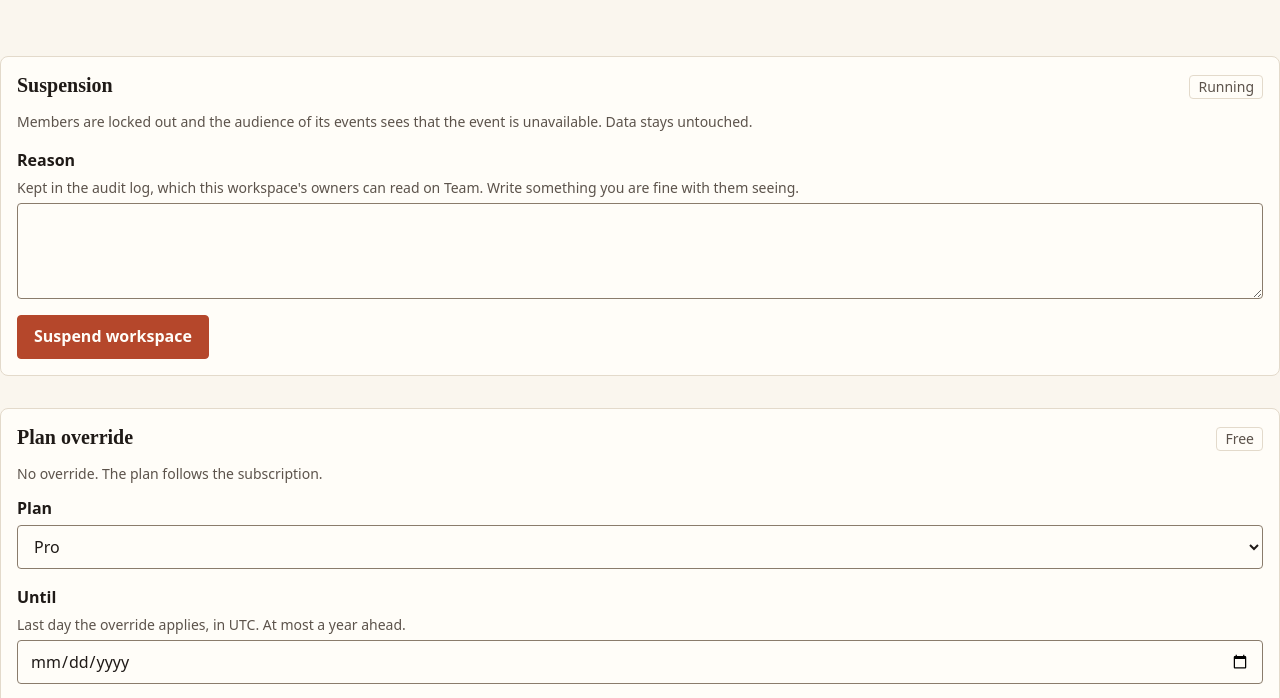
Test: OpsWorkspaceManager › suspends with a reason, then shows the reactivate control from the refreshed detail
The image size is (1280, 698).
In the text box labelled "Reason": (640, 251) x1=17 y1=203 x2=1263 y2=299, type "spam"
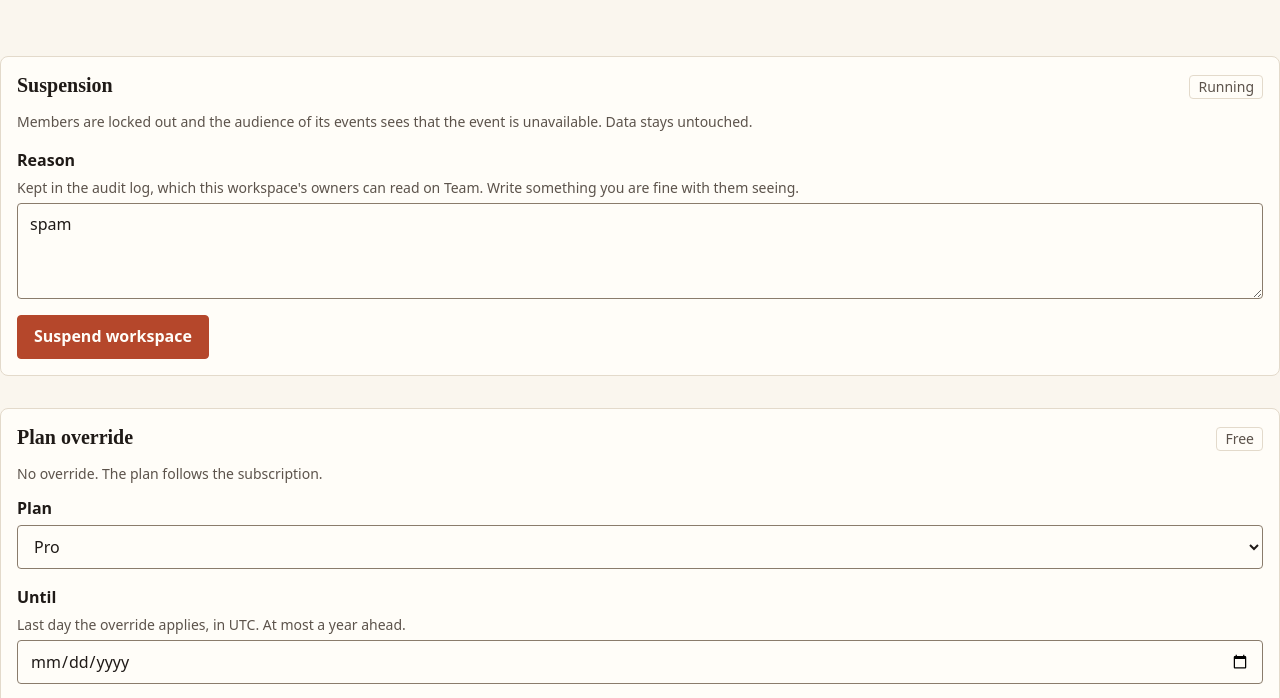
Click the button "Suspend workspace": (113, 337) x1=17 y1=315 x2=209 y2=359
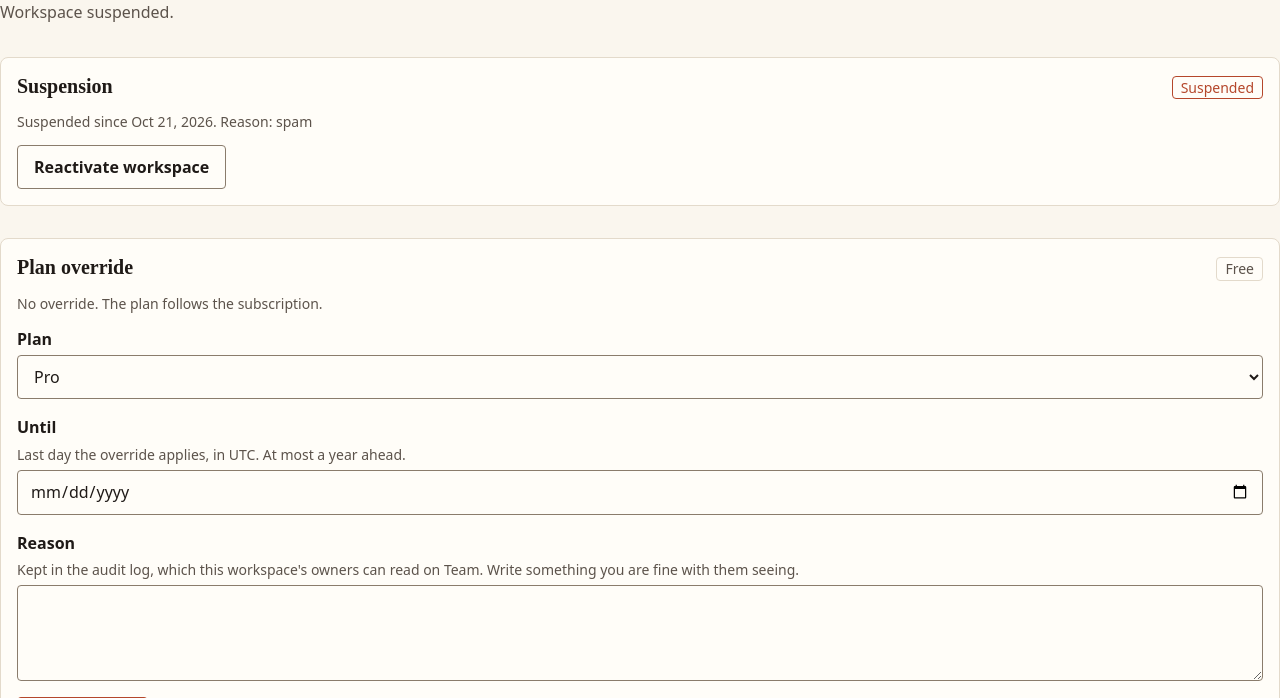
Now the button "Reactivate workspace" is shown, box x1=17 y1=145 x2=226 y2=189
Now the message reads "Workspace suspended.", box x1=0 y1=1 x2=174 y2=23
